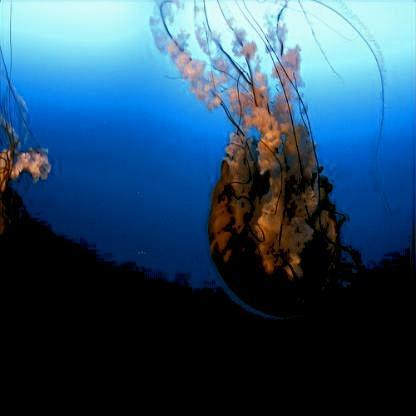Dressed: (158, 5, 342, 311), (1, 109, 49, 247)
